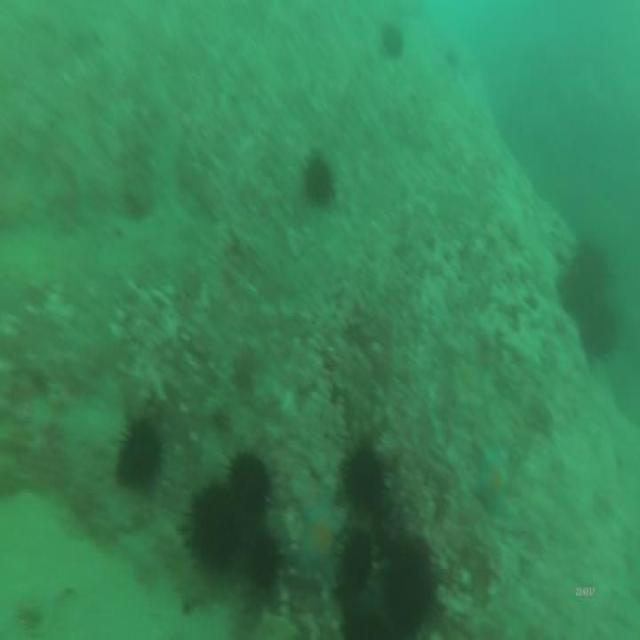echinus: (178, 472, 241, 582), (388, 531, 437, 640), (114, 408, 164, 496), (233, 518, 283, 598), (226, 444, 274, 525), (575, 286, 619, 362), (342, 441, 387, 515), (338, 521, 375, 599), (554, 260, 596, 322), (300, 144, 336, 210), (338, 594, 388, 640), (571, 232, 609, 292), (379, 18, 405, 62)
starfish: (292, 484, 348, 594), (468, 433, 510, 525)
